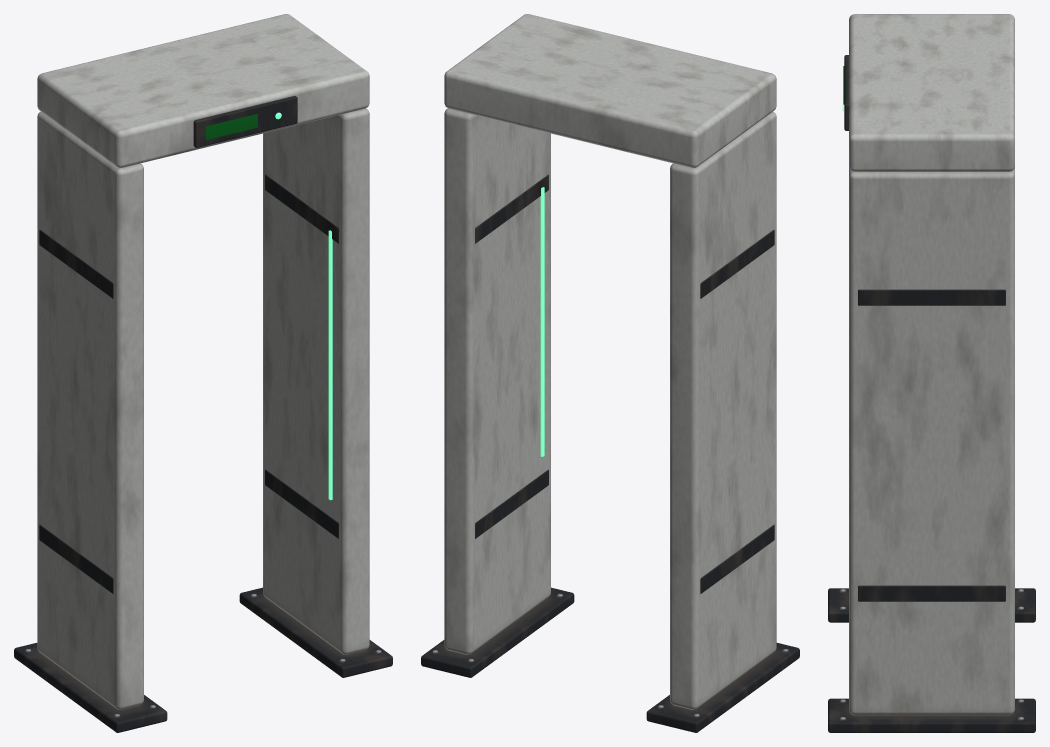
File: klub_bramka.glb
The picture shows the model from 3 angles, left to right: view 1: azimuth 30°, elevation 25°; view 2: azimuth 150°, elevation 25°; view 3: azimuth 270°, elevation 25°; orthographic projection.
Visible parts, largest first — view 1: Bramka, SwiatloLed, Ekran; view 2: Bramka, SwiatloLed; view 3: Bramka.
Boxes of the visible parts, box(x1,y1,x2,y2) form: Bramka: box(14, 14, 392, 732); SwiatloLed: box(275, 112, 332, 500); Ekran: box(206, 114, 257, 139); Bramka: box(421, 14, 799, 732); SwiatloLed: box(540, 187, 544, 456); Bramka: box(828, 14, 1035, 732).
Size of the model in its own units: 1.08 by 2.2 by 0.7.
Materials: 3 (1 with a texture image).
